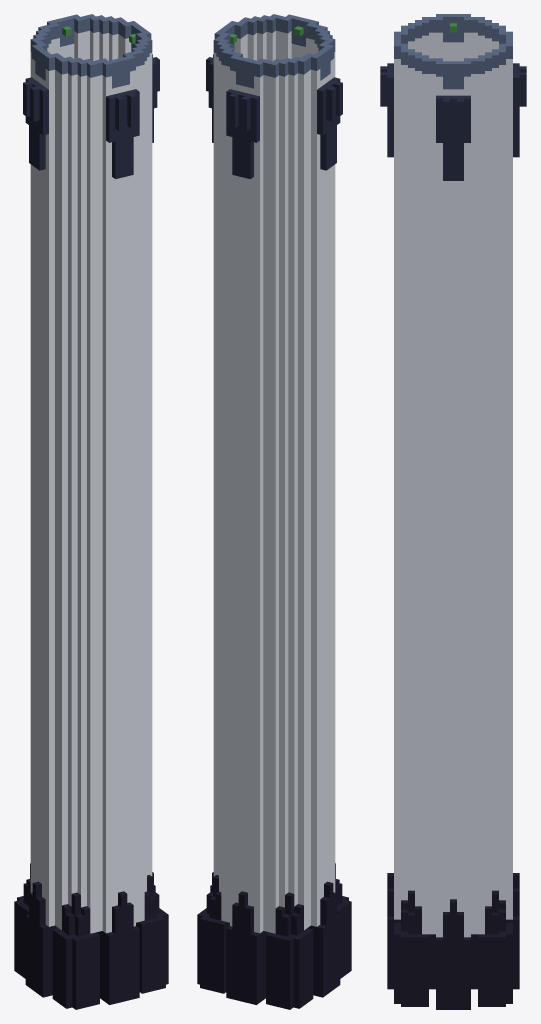
File: pelicano_first_stage.glb
3 views of the same model, side by side, from view 1: azimuth 30°, elevation 25°; view 2: azimuth 150°, elevation 25°; view 3: azimuth 270°, elevation 25° (orthographic).
Visible parts, largest first — view 1: ObjObject.026; view 2: ObjObject.026; view 3: ObjObject.026.
Part boxes in pixels (x1,y1,x2,y2): ObjObject.026: (14,14,168,1009); ObjObject.026: (197,14,351,1009); ObjObject.026: (380,14,526,1009).
Bounding box in the file's own units: 2.1 × 14.9 × 2.1.
Materials: 1 (1 with a texture image).
